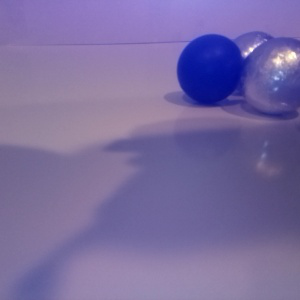alive_ball: (242, 36, 300, 113), (227, 30, 285, 94)
dead_ball: (177, 32, 243, 103)
